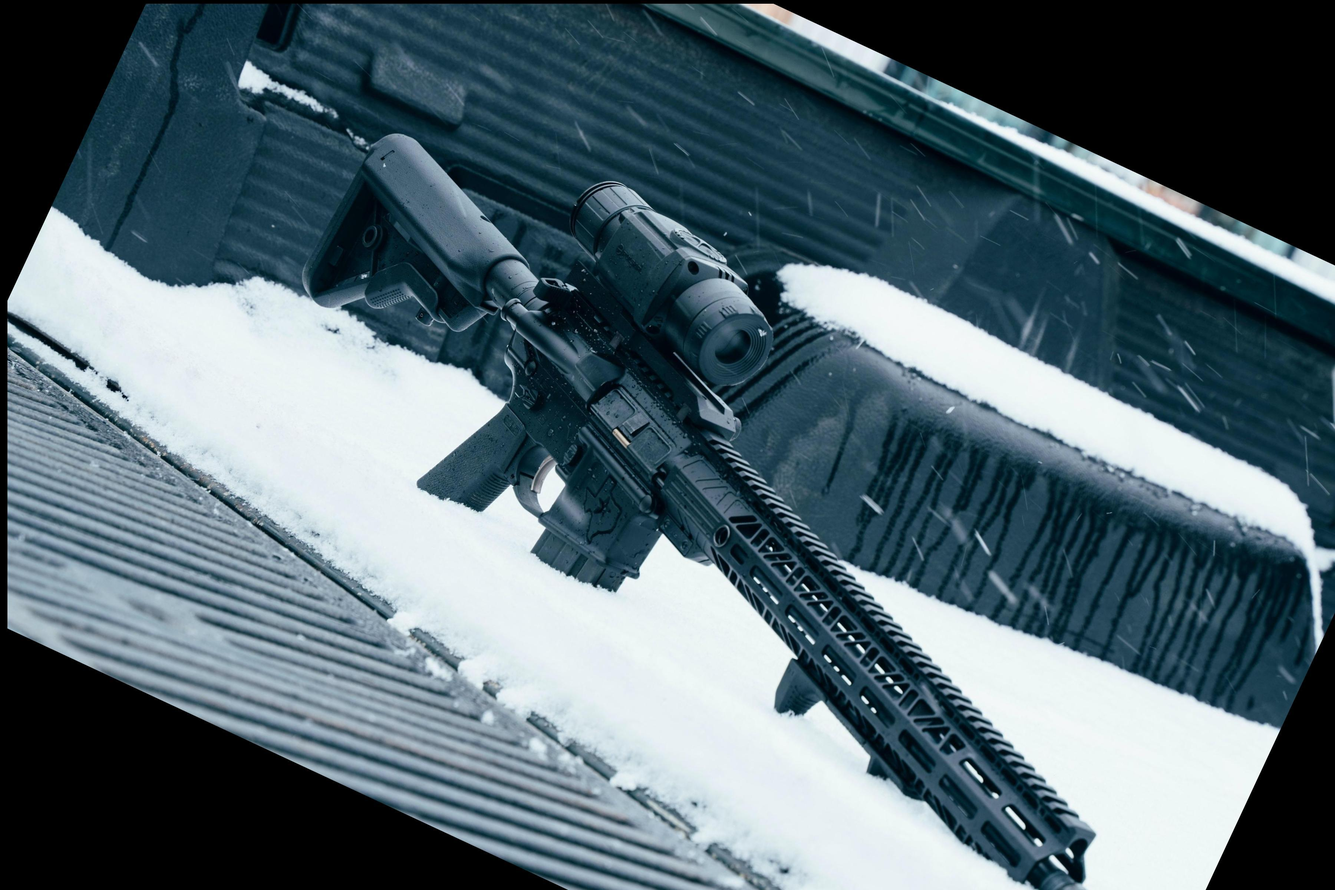larga: (301, 132, 1097, 890)
